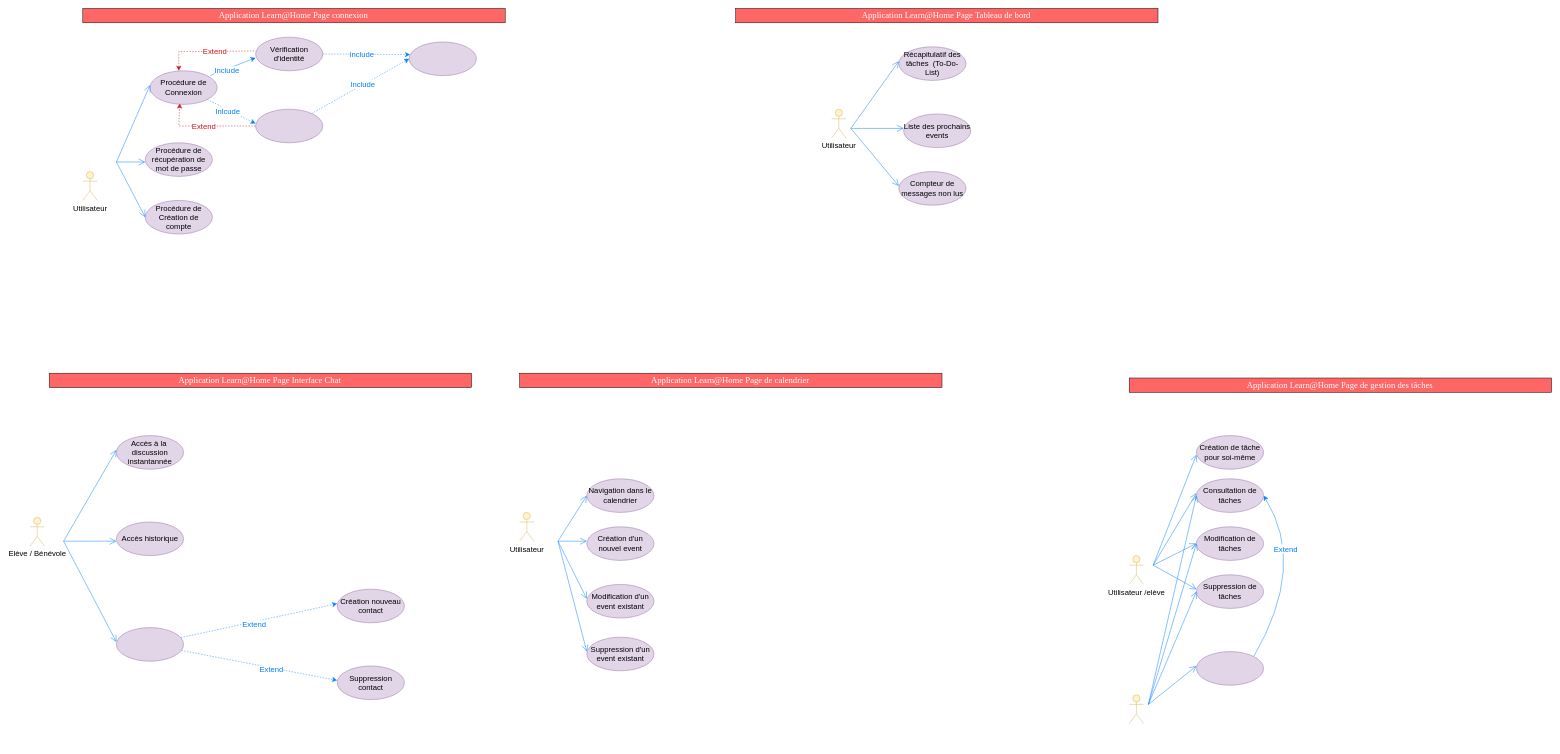
This 1560x754 diagram has some shape labels left out. The shapes that lost their labels are listed below. From the top down, each one's box as (x1, y1, x2, y2) in pixels, then its label:
(409, 42, 476, 76): Accès au dashboard
(255, 109, 323, 143): Authentification
(116, 627, 184, 661): Accès liste contact
(1196, 651, 1264, 685): Création de tâche pour un autre utilisateur
(1129, 694, 1144, 724): Utilisateur / Bénévole
